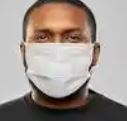with_facemask: (24, 47, 99, 93)
